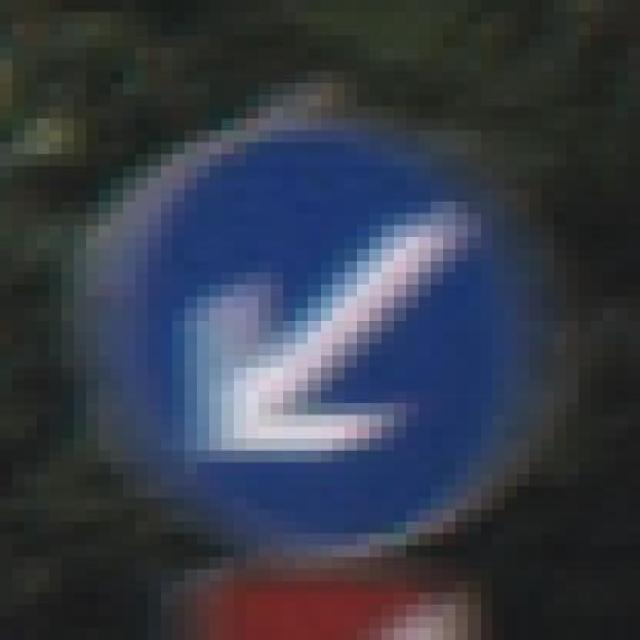Keep-Left: (98, 106, 554, 557)
